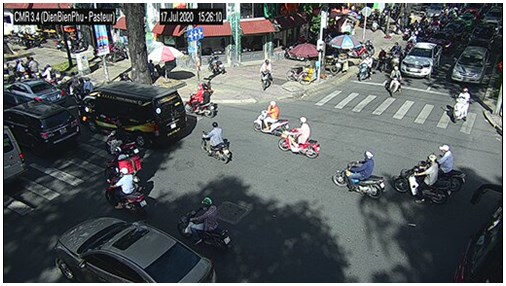xe_hoi: (53, 215, 218, 284), (5, 99, 81, 153), (6, 80, 67, 105), (402, 42, 442, 79), (452, 46, 489, 86), (469, 25, 495, 45), (432, 30, 455, 52)
xe_khach: (80, 84, 186, 144)
xe_may: (177, 196, 231, 251), (393, 154, 450, 205), (333, 151, 386, 200), (278, 115, 320, 158), (106, 169, 145, 214), (252, 101, 291, 137), (436, 145, 465, 191), (106, 120, 140, 158), (201, 121, 230, 164), (184, 84, 217, 118), (108, 151, 143, 179), (452, 88, 474, 124), (384, 66, 402, 97), (358, 53, 373, 83), (73, 77, 92, 99), (43, 62, 60, 84), (260, 59, 272, 90), (28, 56, 41, 79), (375, 47, 386, 72), (15, 60, 24, 80)
